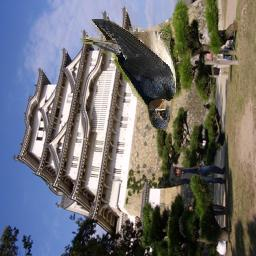Swallow: (80, 20, 176, 131)
